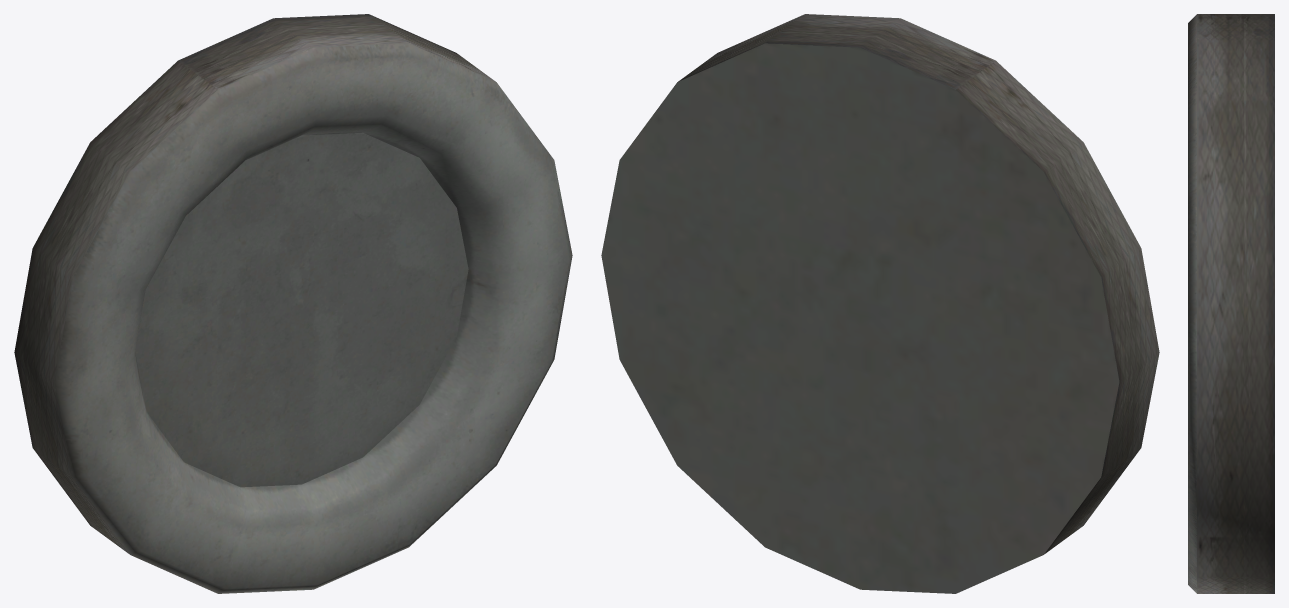
The model's file is nt_2020_shuffleboard_puck_01_LOD0.obj.
3 renders of one model, left to right at view 1: azimuth 30°, elevation 25°; view 2: azimuth 150°, elevation 25°; view 3: azimuth 270°, elevation 25°, orthographic. The views are drawn at different scales.
Visible parts, largest first — view 1: mtl_nt_2020_shuffleboard_puck_white; view 2: mtl_nt_2020_shuffleboard_puck_white; view 3: mtl_nt_2020_shuffleboard_puck_white.
Part boxes in pixels (x1=…): mtl_nt_2020_shuffleboard_puck_white: x1=14, y1=14, x2=572, y2=593; mtl_nt_2020_shuffleboard_puck_white: x1=601, y1=14, x2=1159, y2=593; mtl_nt_2020_shuffleboard_puck_white: x1=1188, y1=14, x2=1274, y2=593.
Bounding box in the file's own units: 25.4 × 25.4 × 3.8.
